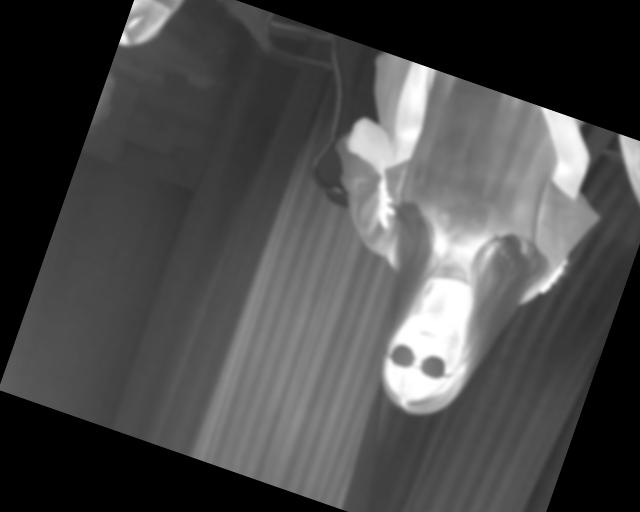face: (369, 296, 481, 427)
